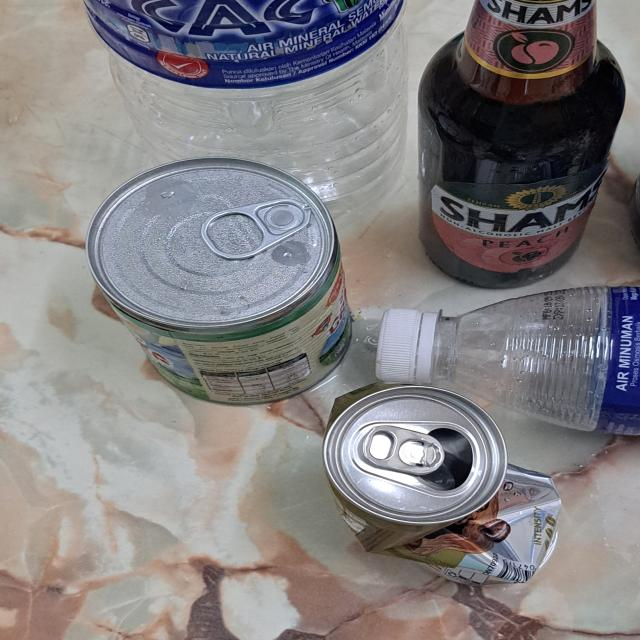can: (83, 156, 355, 404), (321, 384, 566, 586)
glass bottle: (412, 0, 628, 288)
plastic bottle: (83, 0, 405, 225), (439, 286, 640, 436)
plastic bottle cap: (372, 306, 424, 387)
pop tab: (202, 197, 315, 257), (360, 422, 448, 477)
